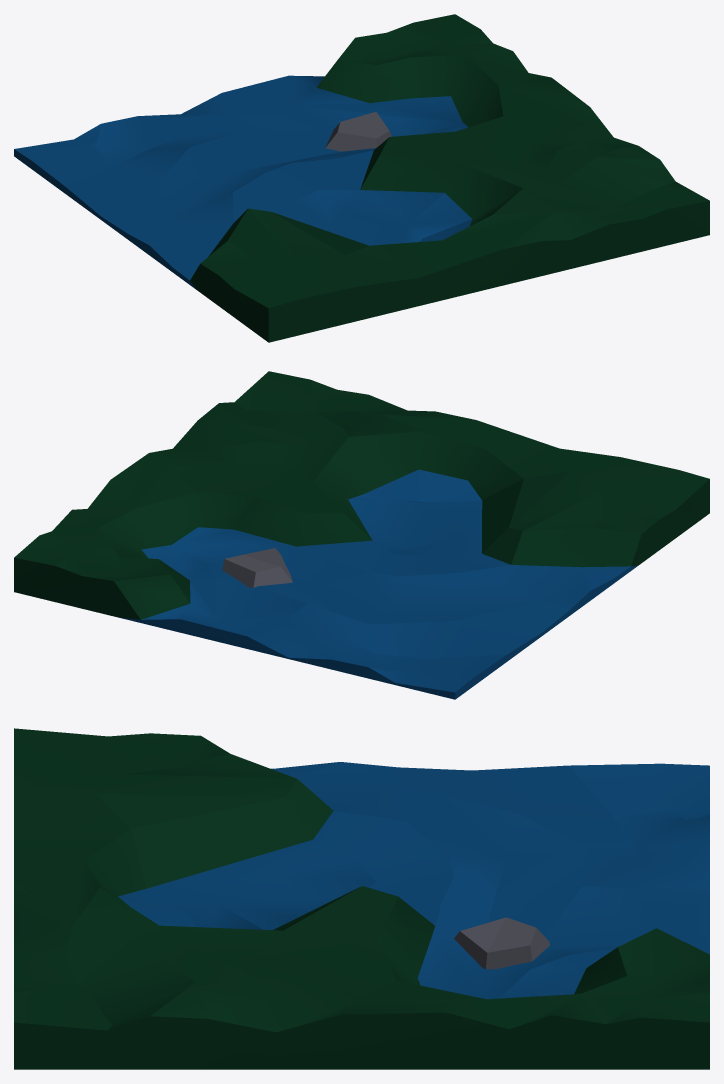
Rendered from Water_Corner_Internal_RB.fbx.
3 views of the same model, one above another, from view 1: azimuth 30°, elevation 25°; view 2: azimuth 150°, elevation 25°; view 3: azimuth 270°, elevation 25° (orthographic). The views are drawn at different scales.
Parts seen in each view (by area): view 1: Water_Corner_Internal_RB; view 2: Water_Corner_Internal_RB; view 3: Water_Corner_Internal_RB.
Part boxes in pixels (<box>): Water_Corner_Internal_RB: <box>14,14,709,342</box>; Water_Corner_Internal_RB: <box>14,371,709,699</box>; Water_Corner_Internal_RB: <box>14,728,709,1069</box>.
Bounding box in the file's own units: 147 × 13.54 × 147.
